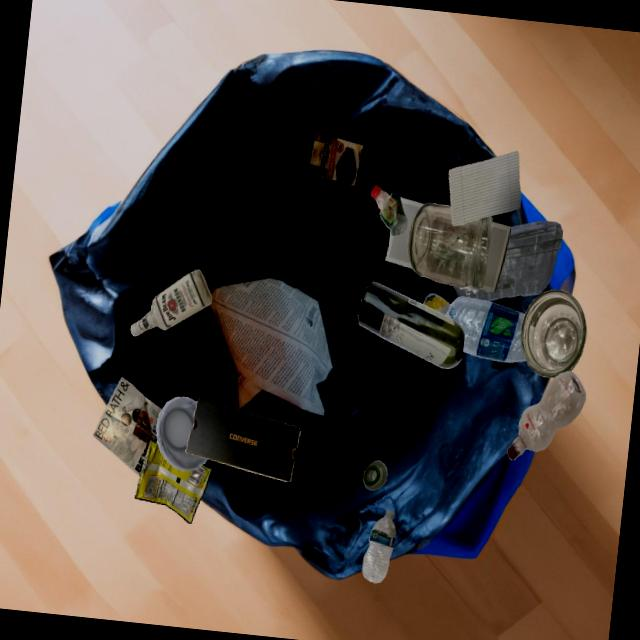cardboard: (185, 398, 300, 481), (308, 132, 362, 185)
glass: (357, 281, 465, 368), (408, 202, 492, 288), (520, 289, 586, 378), (130, 269, 212, 336), (362, 460, 387, 490), (422, 293, 450, 315)
paper: (208, 277, 332, 416), (92, 376, 161, 476), (448, 150, 520, 225), (468, 221, 511, 291), (385, 196, 424, 268)
plastic: (453, 220, 562, 300), (506, 371, 585, 460), (445, 296, 526, 362), (156, 396, 207, 471), (362, 509, 395, 583), (370, 184, 407, 236)
trash: (134, 440, 211, 523)
